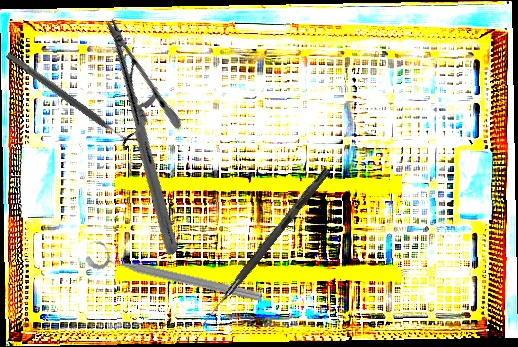Fixation Ring: (0, 44, 140, 152), (83, 237, 267, 307)
Hook Surgical: (199, 166, 331, 330)
Needle Holder: (23, 16, 261, 258)
